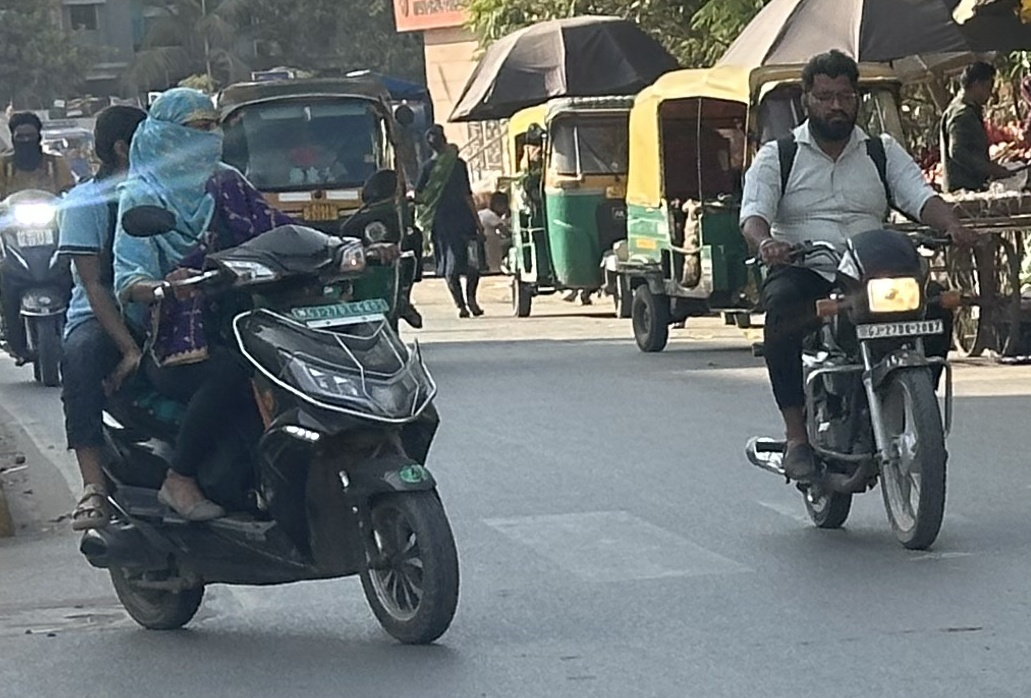BikeWithRider: (37, 75, 470, 655), (716, 41, 985, 563), (0, 95, 99, 390)
NoHelmet: (148, 82, 234, 176), (793, 46, 869, 140), (81, 99, 158, 181), (0, 103, 53, 175)
